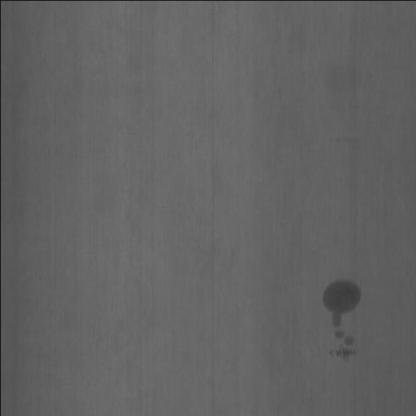oil_spot: (316, 262, 376, 358)
